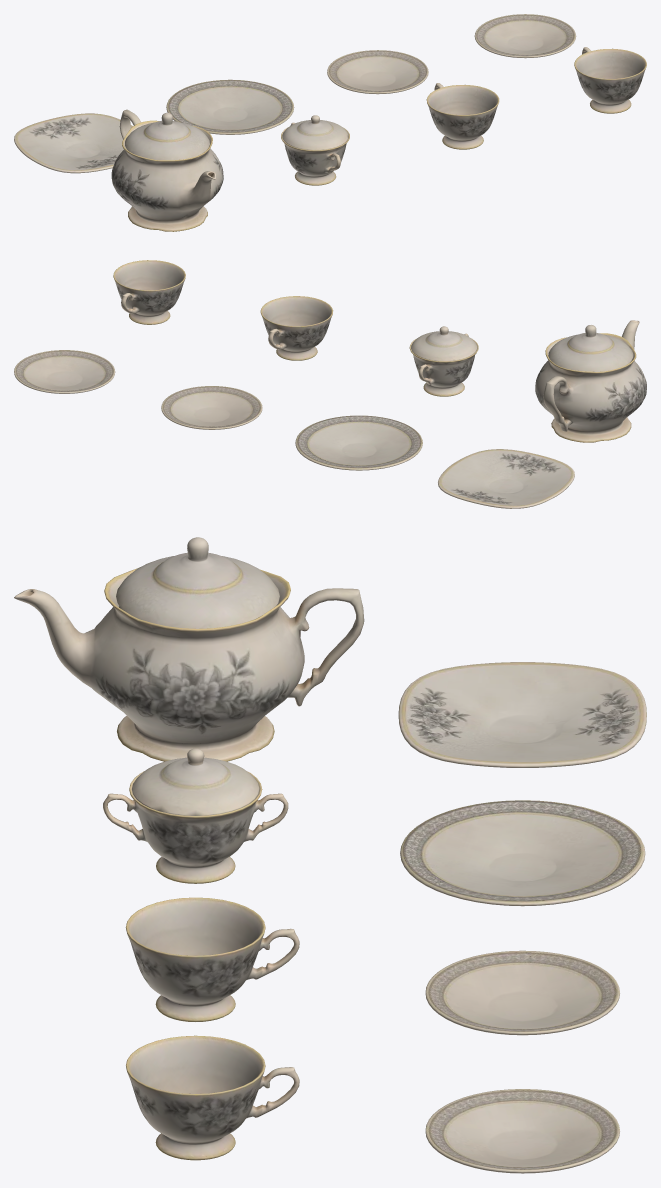
File: teaset.glb
3 views of the same model, one above another, from view 1: azimuth 30°, elevation 25°; view 2: azimuth 150°, elevation 25°; view 3: azimuth 270°, elevation 25° (orthographic). The views are drawn at different scales.
Visible parts, largest first — view 1: tea_set_01_teapot_01, tea_set_01_plate_large_circular_03, tea_set_01_plate_large_square_01, tea_set_01_cup_small_01, tea_set_01_cup_small_02, tea_set_01_saucer_circular_03, tea_set_01_saucer_circular_04, tea_set_01_teapot_01_lid, tea_set_01_sugar_cup_01, tea_set_01_sugar_cup_01_lid; view 2: tea_set_01_teapot_01, tea_set_01_plate_large_square_01, tea_set_01_plate_large_circular_03, tea_set_01_cup_small_01, tea_set_01_cup_small_02, tea_set_01_saucer_circular_04, tea_set_01_saucer_circular_03, tea_set_01_teapot_01_lid, tea_set_01_sugar_cup_01, tea_set_01_sugar_cup_01_lid; view 3: tea_set_01_teapot_01, tea_set_01_plate_large_square_01, tea_set_01_plate_large_circular_03, tea_set_01_cup_small_01, tea_set_01_cup_small_02, tea_set_01_saucer_circular_03, tea_set_01_saucer_circular_04, tea_set_01_teapot_01_lid, tea_set_01_sugar_cup_01, tea_set_01_sugar_cup_01_lid.
Boxes of the visible parts, x1,y1,x2,y2 form: tea_set_01_teapot_01: [111, 109, 223, 231]; tea_set_01_plate_large_circular_03: [166, 79, 294, 134]; tea_set_01_plate_large_square_01: [14, 113, 133, 173]; tea_set_01_cup_small_01: [426, 83, 499, 149]; tea_set_01_cup_small_02: [574, 47, 646, 113]; tea_set_01_saucer_circular_03: [474, 14, 576, 58]; tea_set_01_saucer_circular_04: [327, 50, 428, 94]; tea_set_01_teapot_01_lid: [125, 112, 209, 160]; tea_set_01_sugar_cup_01: [281, 122, 349, 185]; tea_set_01_sugar_cup_01_lid: [282, 115, 348, 150]; tea_set_01_teapot_01: [535, 320, 646, 442]; tea_set_01_plate_large_square_01: [438, 449, 574, 508]; tea_set_01_plate_large_circular_03: [295, 415, 422, 470]; tea_set_01_cup_small_01: [260, 296, 333, 360]; tea_set_01_cup_small_02: [113, 260, 185, 324]; tea_set_01_saucer_circular_04: [161, 386, 262, 429]; tea_set_01_saucer_circular_03: [14, 350, 115, 393]; tea_set_01_teapot_01_lid: [548, 325, 633, 371]; tea_set_01_sugar_cup_01: [409, 333, 478, 396]; tea_set_01_sugar_cup_01_lid: [411, 326, 477, 361]; tea_set_01_teapot_01: [14, 568, 364, 761]; tea_set_01_plate_large_square_01: [398, 662, 646, 767]; tea_set_01_plate_large_circular_03: [400, 800, 645, 906]; tea_set_01_cup_small_01: [125, 897, 299, 1021]; tea_set_01_cup_small_02: [126, 1035, 299, 1160]; tea_set_01_saucer_circular_03: [425, 1089, 619, 1173]; tea_set_01_saucer_circular_04: [425, 950, 619, 1035]; tea_set_01_teapot_01_lid: [116, 537, 279, 628]; tea_set_01_sugar_cup_01: [103, 771, 288, 883]; tea_set_01_sugar_cup_01_lid: [131, 748, 259, 815].
Size of the model in its own units: 0.9185 by 0.165 by 0.4839.
1 material, 1 textured.
